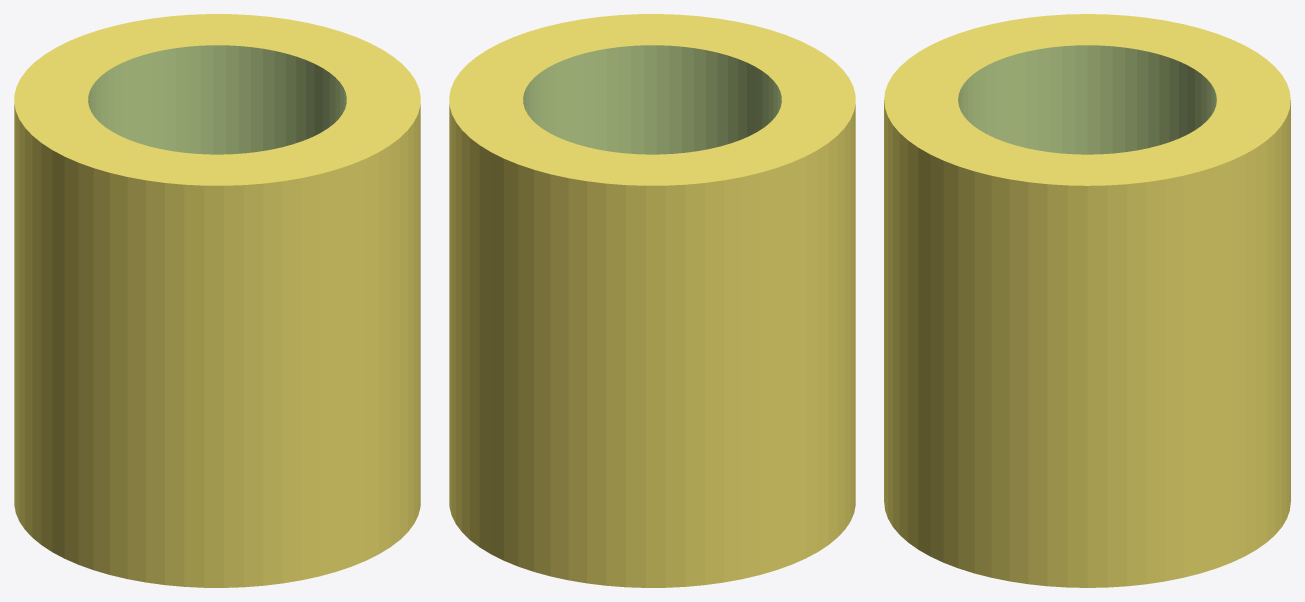
3 renders of one model, left to right at view 1: azimuth 30°, elevation 25°; view 2: azimuth 150°, elevation 25°; view 3: azimuth 270°, elevation 25°, orthographic.
Size of the model in its own units: 22 by 24 by 22.
